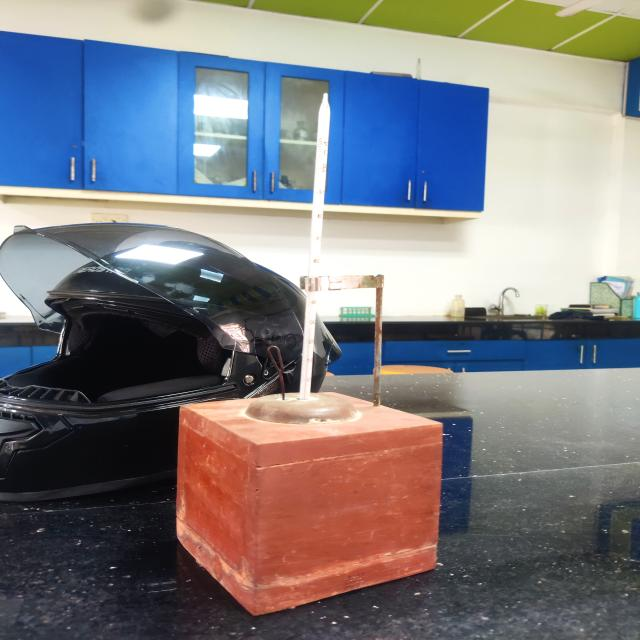Calorimeter: (156, 77, 450, 626)
